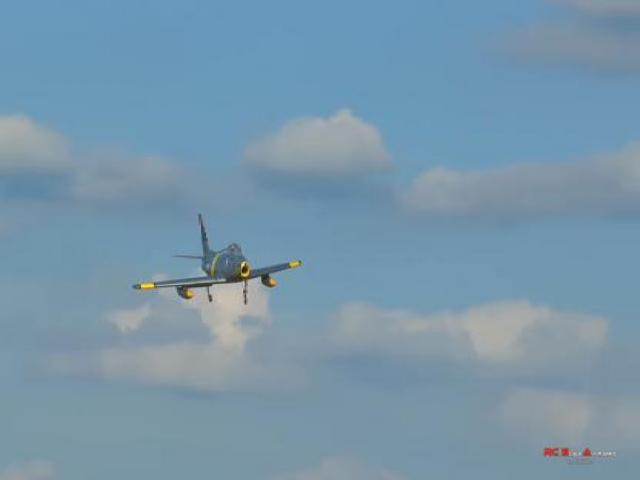uav: (127, 208, 305, 311)
